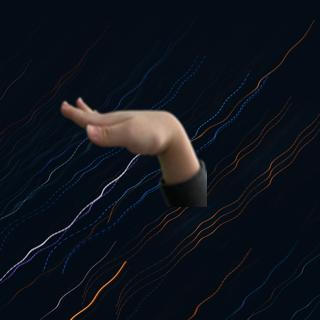Wait: (56, 91, 191, 162)
